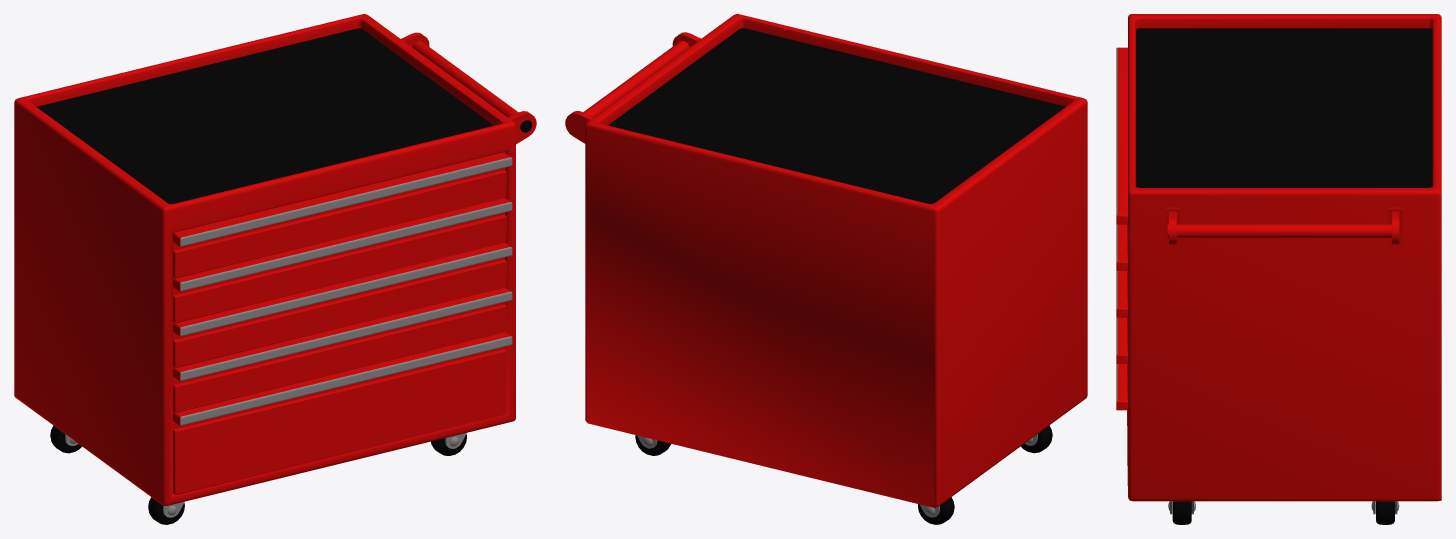
Rendered from toolbox.fbx.
The picture shows the model from 3 angles, left to right: view 1: azimuth 30°, elevation 25°; view 2: azimuth 150°, elevation 25°; view 3: azimuth 270°, elevation 25°; orthographic projection. The views are drawn at different scales.
Visible parts, largest first — view 1: tool_box_01, handle; view 2: tool_box_01, handle; view 3: tool_box_01, handle.
Boxes of the visible parts, bbox=[...] form: tool_box_01: bbox=[14, 14, 536, 524]; handle: bbox=[412, 41, 531, 132]; tool_box_01: bbox=[565, 14, 1087, 524]; handle: bbox=[583, 40, 689, 116]; tool_box_01: bbox=[1116, 14, 1441, 524]; handle: bbox=[1167, 224, 1391, 238].
Bounding box in the file's own units: 103 × 85.39 × 71.39.
